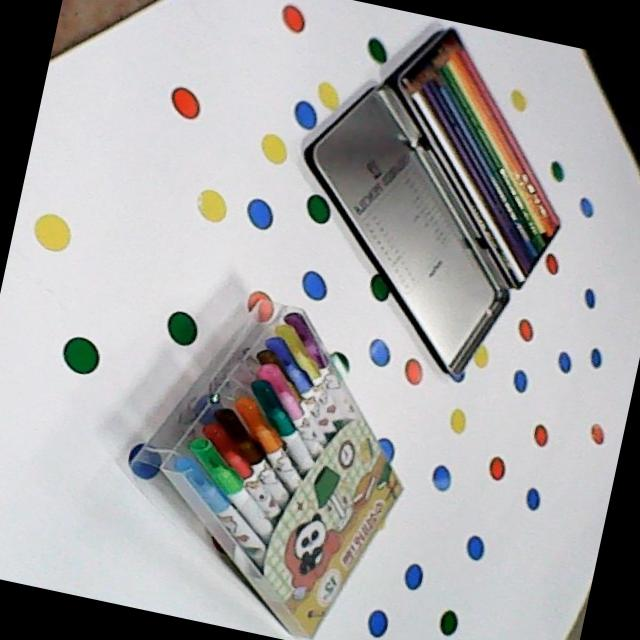color: (380, 19, 572, 302)
signpen: (110, 288, 415, 640)
